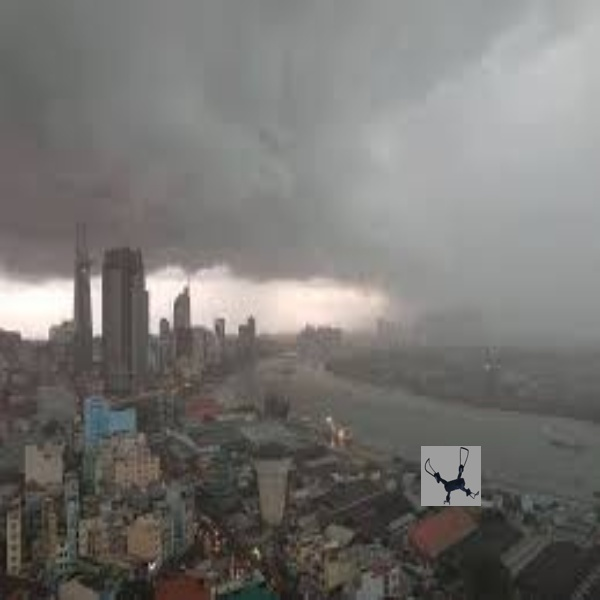drone: (419, 444, 483, 507)
